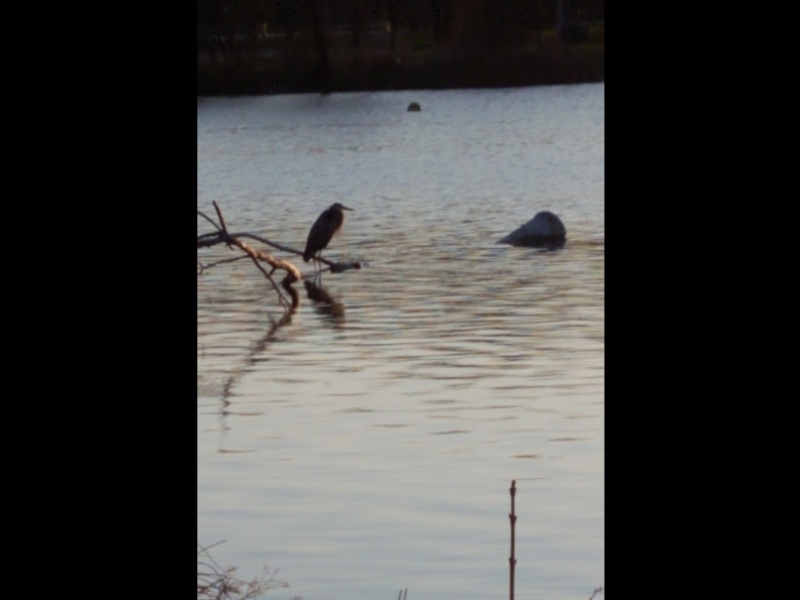heron: (302, 201, 350, 285)
